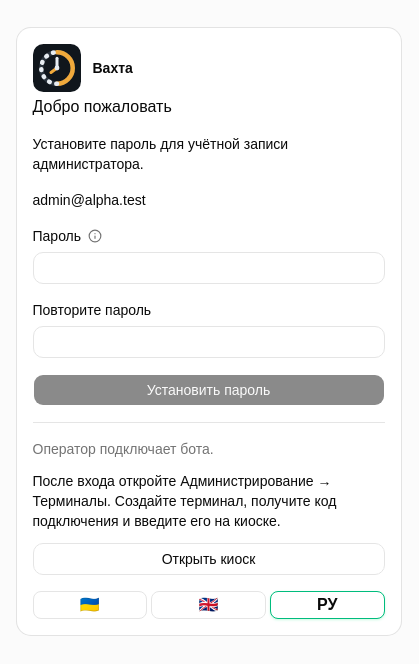
Scenario: administrator welcome › requires matching valid passwords, sends the host-bound invitation, and shows sign-in after success
The width and height of the screenshot is (419, 664).
Expected: the text "admin@alpha.test" is shown, x1=32 y1=192 x2=146 y2=208
Expected: the button "Установить пароль" is disabled, x1=32 y1=374 x2=384 y2=406
Step 1. Type "test-new-password-123" into the password field labelled "Пароль" → (208, 268), box x1=32 y1=252 x2=384 y2=284
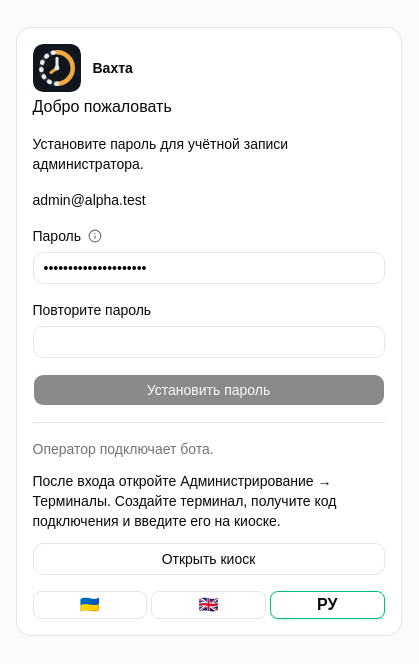
Step 2. Type "different-password-123" into the password field labelled "Повторите пароль" → (208, 342), box x1=32 y1=326 x2=384 y2=358
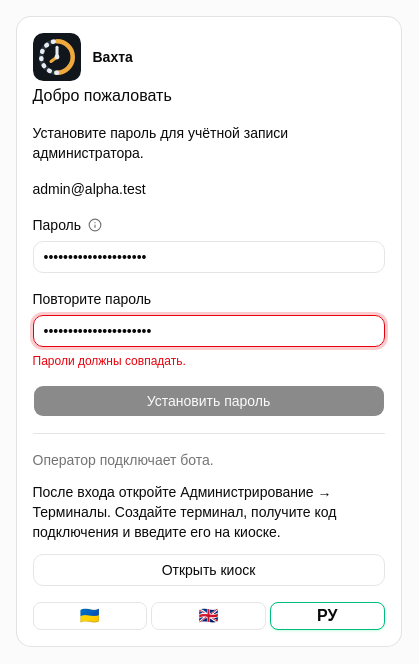
Expected: the button "Установить пароль" is disabled, x1=32 y1=384 x2=384 y2=416
Step 3. Type "test-new-password-123" into the password field labelled "Повторите пароль" → (208, 330), box x1=32 y1=314 x2=384 y2=346
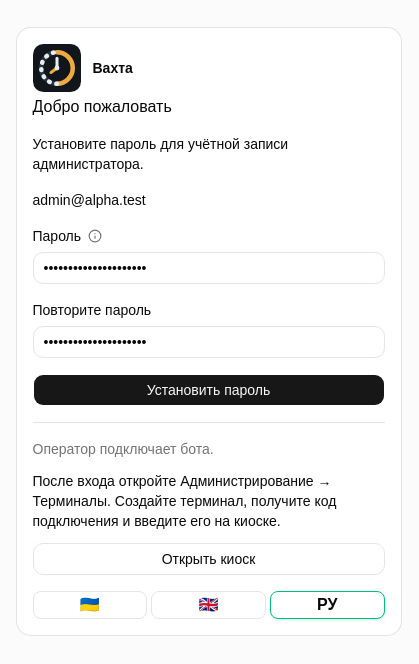
Expected: the button "Установить пароль" is enabled
Step 4. Click the button "Установить пароль" → (208, 390), box x1=32 y1=374 x2=384 y2=406
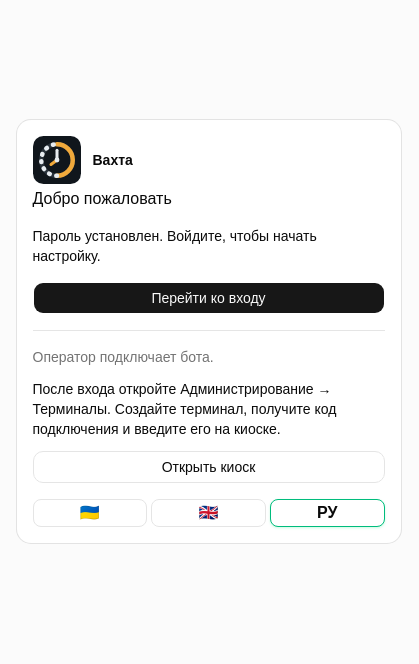
Expected: the text "Оператор подключает бота." is shown, x1=32 y1=348 x2=214 y2=364
Expected: the button "Перейти ко входу" is shown, x1=32 y1=282 x2=384 y2=314
